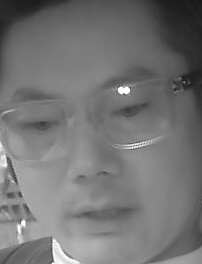eye: (109, 101, 148, 120), (20, 116, 57, 136)
glass: (90, 77, 178, 147), (1, 101, 69, 162)
mouth: (69, 196, 143, 243)
